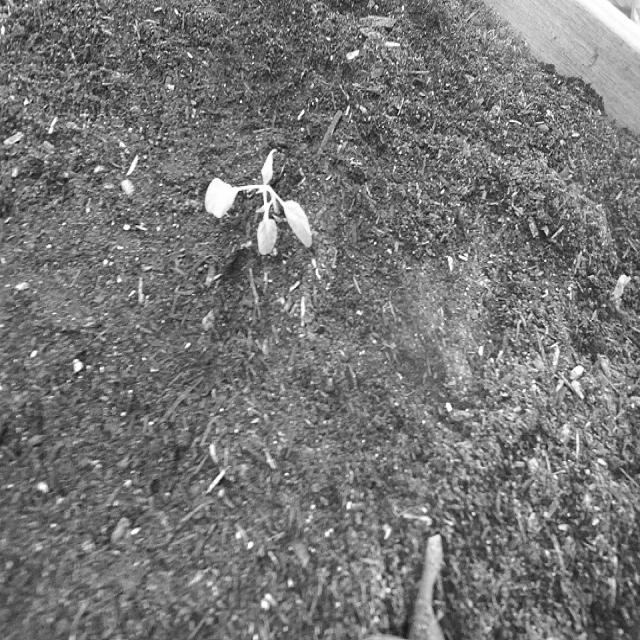Healthy: (191, 138, 318, 279)
